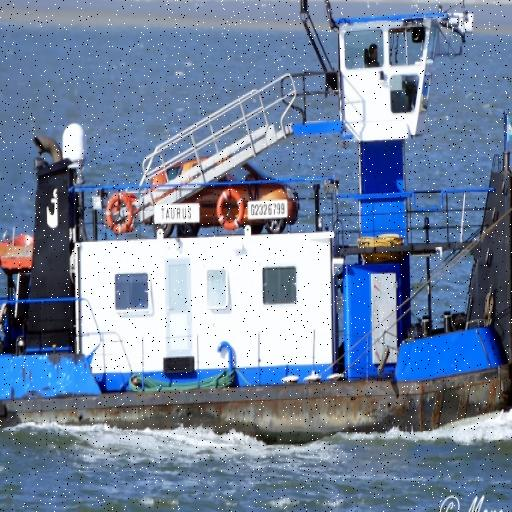tugboat: (1, 1, 512, 462)
